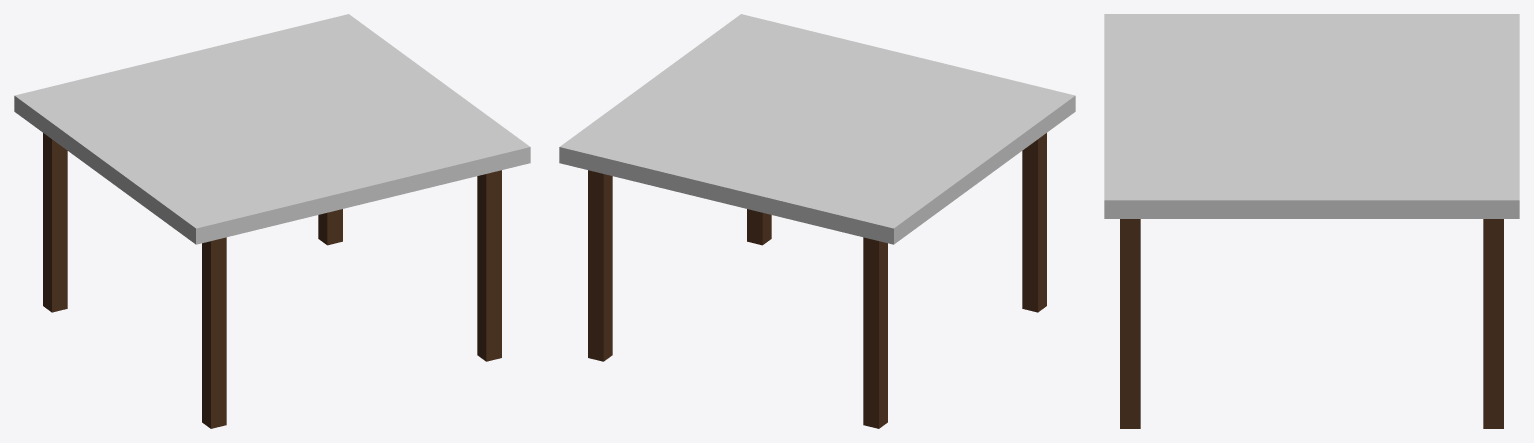
Rendered from mesa.glb.
3 views of the same model, side by side, from view 1: azimuth 30°, elevation 25°; view 2: azimuth 150°, elevation 25°; view 3: azimuth 270°, elevation 25° (orthographic). The views are drawn at different scales.
Visible parts, largest first — view 1: mesa; view 2: mesa; view 3: mesa.
Boxes of the visible parts, <box> form: mesa: <box>14,14,530,428</box>; mesa: <box>559,14,1075,428</box>; mesa: <box>1104,14,1519,428</box>.
Bounding box in the file's own units: 1.3 × 0.78 × 1.22.
